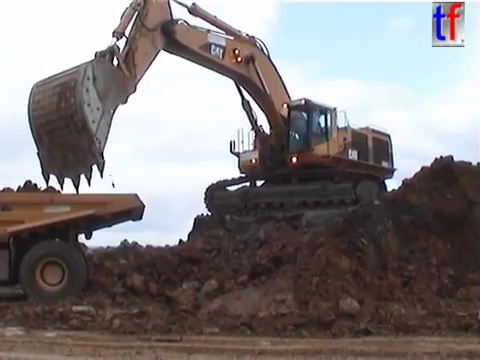excavator: (22, 1, 400, 226)
truck: (1, 187, 149, 310)
